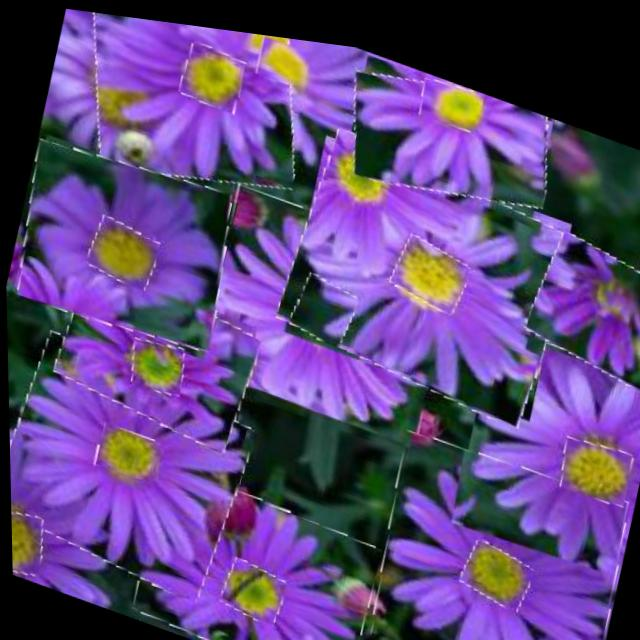Flower: (271, 114, 582, 421), (190, 172, 457, 441), (6, 326, 256, 602), (358, 408, 634, 640), (5, 125, 242, 359), (68, 7, 320, 216), (447, 304, 640, 568), (126, 454, 384, 640), (49, 254, 264, 451), (338, 37, 561, 220), (520, 211, 640, 374), (386, 220, 470, 305), (553, 415, 633, 495), (455, 523, 534, 601), (84, 211, 161, 289), (177, 34, 248, 111), (287, 262, 357, 340), (216, 549, 286, 622), (91, 418, 161, 485), (124, 328, 188, 397), (417, 62, 486, 124), (254, 27, 313, 83), (9, 501, 49, 583)
